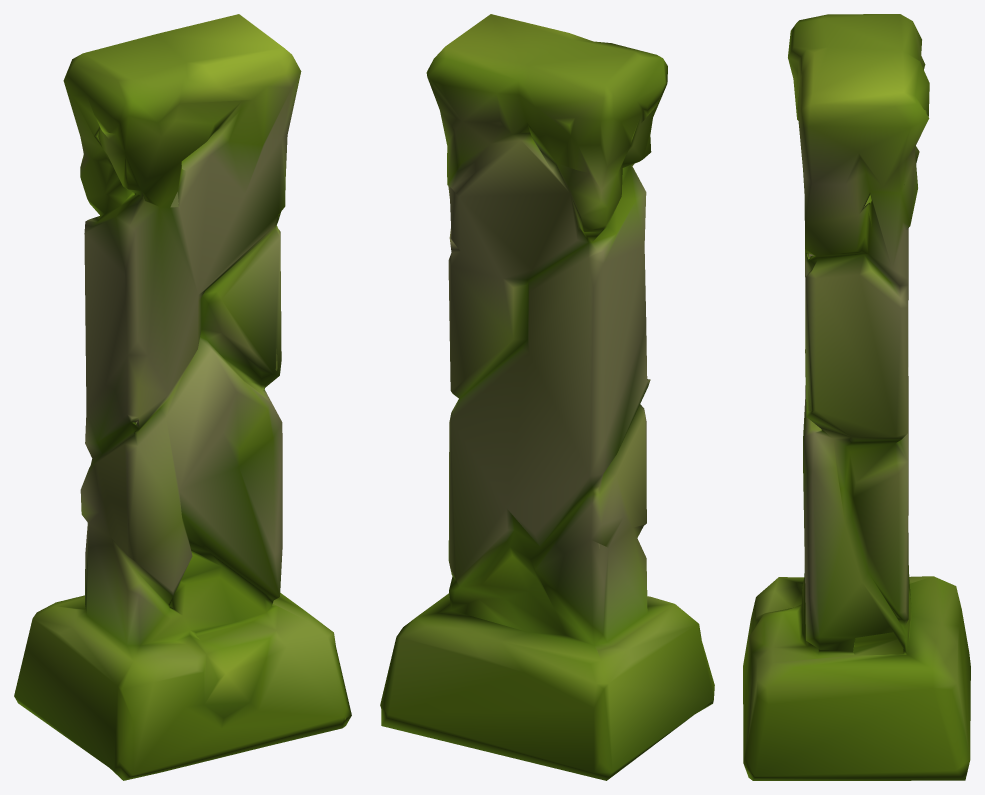
Rendered from gen3d-mossy-ruin-pillar-lod1.glb.
The picture shows the model from 3 angles, left to right: view 1: azimuth 30°, elevation 25°; view 2: azimuth 150°, elevation 25°; view 3: azimuth 270°, elevation 25°; orthographic projection.
Parts seen in each view (by area): view 1: part_0; view 2: part_0; view 3: part_0.
Boxes of the visible parts, bbox=[...] form: part_0: bbox=[14, 14, 351, 780]; part_0: bbox=[380, 14, 714, 780]; part_0: bbox=[743, 14, 970, 780].
Bounding box in the file's own units: 0.3705 × 0.9997 × 0.3065.
